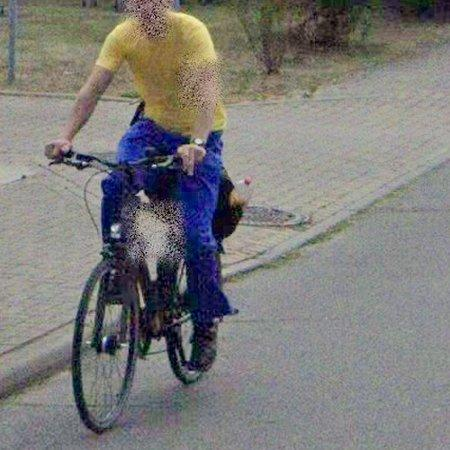bicycles: (72, 259, 138, 434)
